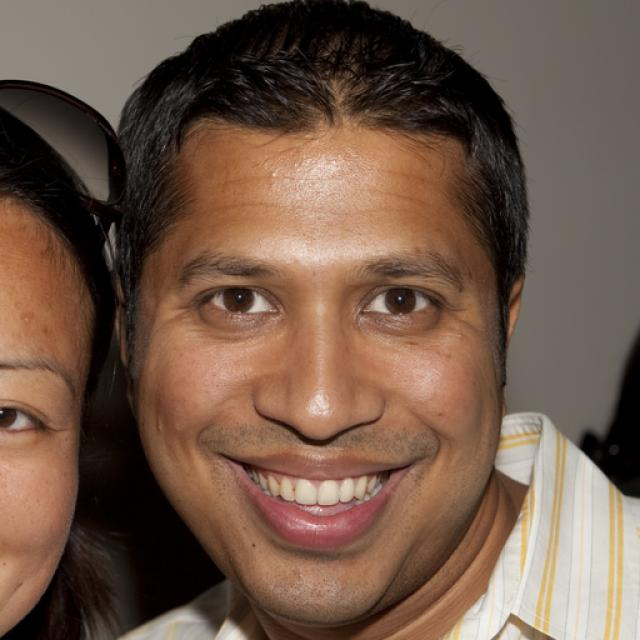Acne: (267, 168, 279, 181)
